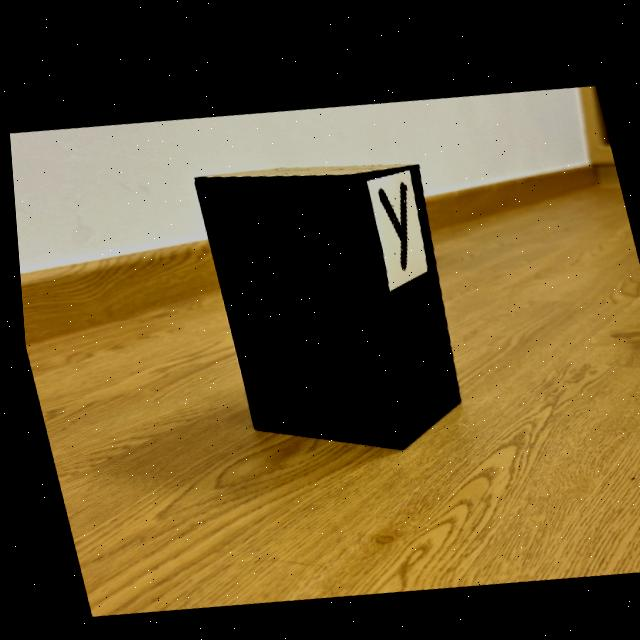Y: (376, 173, 405, 262)
